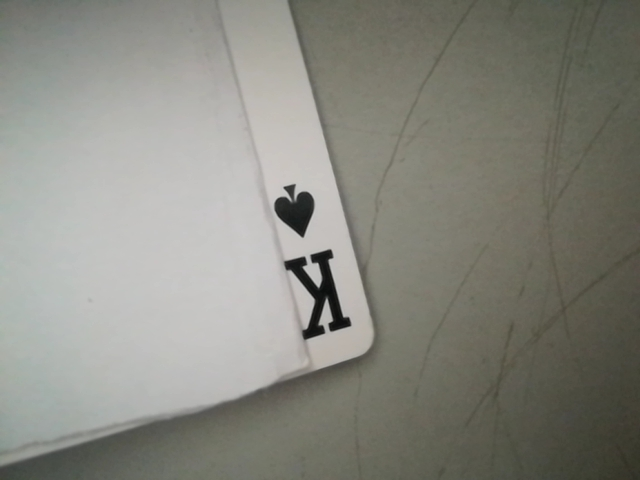ht k: (258, 168, 369, 361)
